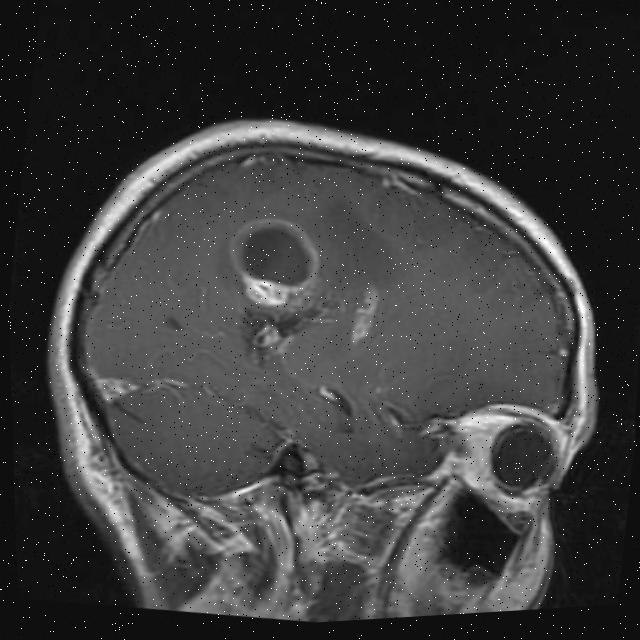Glioma: (219, 208, 328, 316), (345, 281, 383, 348)
